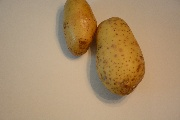potato: (96, 16, 146, 96), (63, 1, 98, 57)
